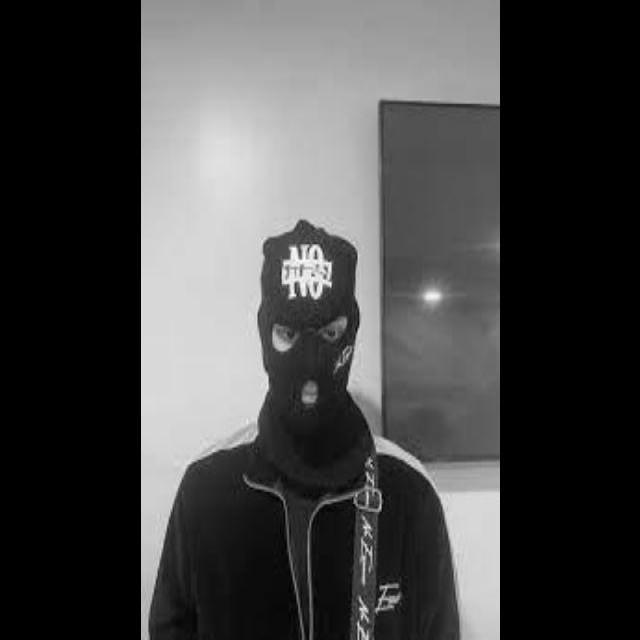6_pasamontana: (257, 216, 362, 492)
